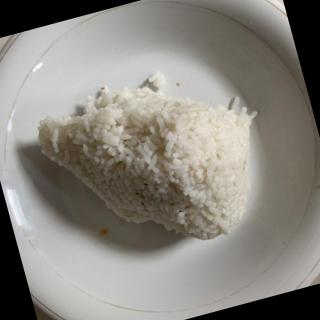Nasi: (35, 63, 276, 274)
